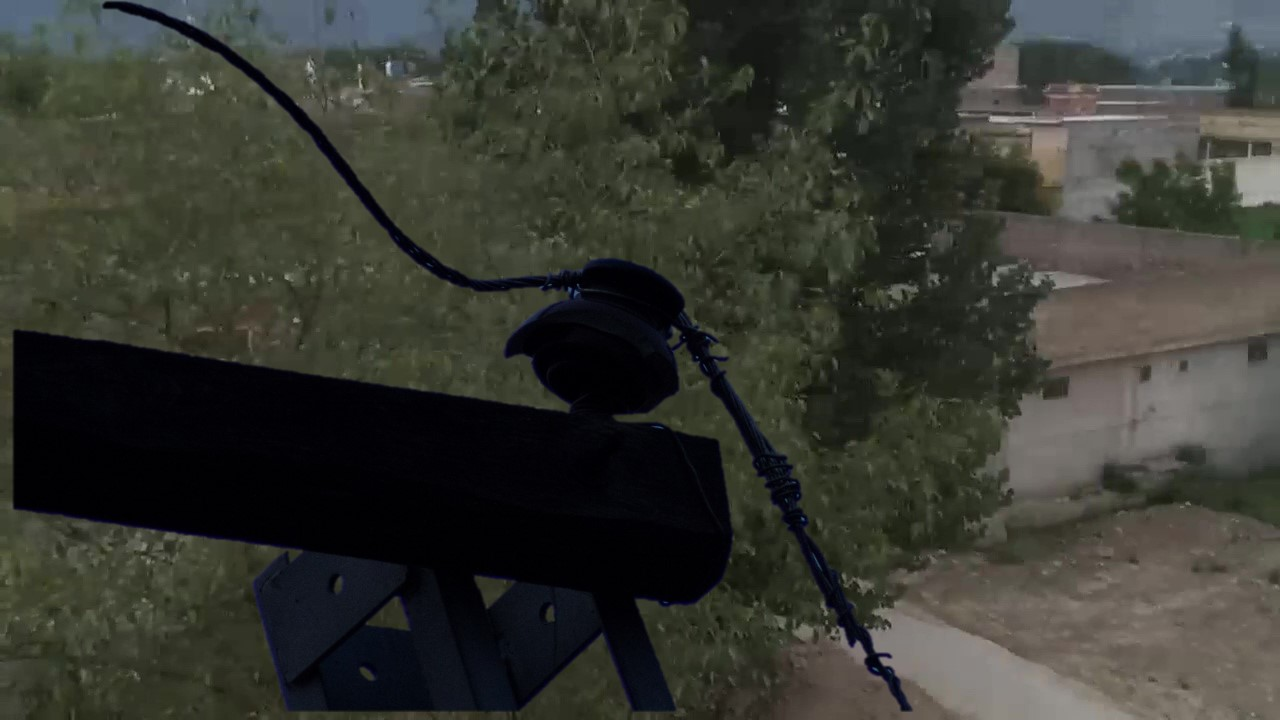defect_pin: (501, 255, 693, 419)
